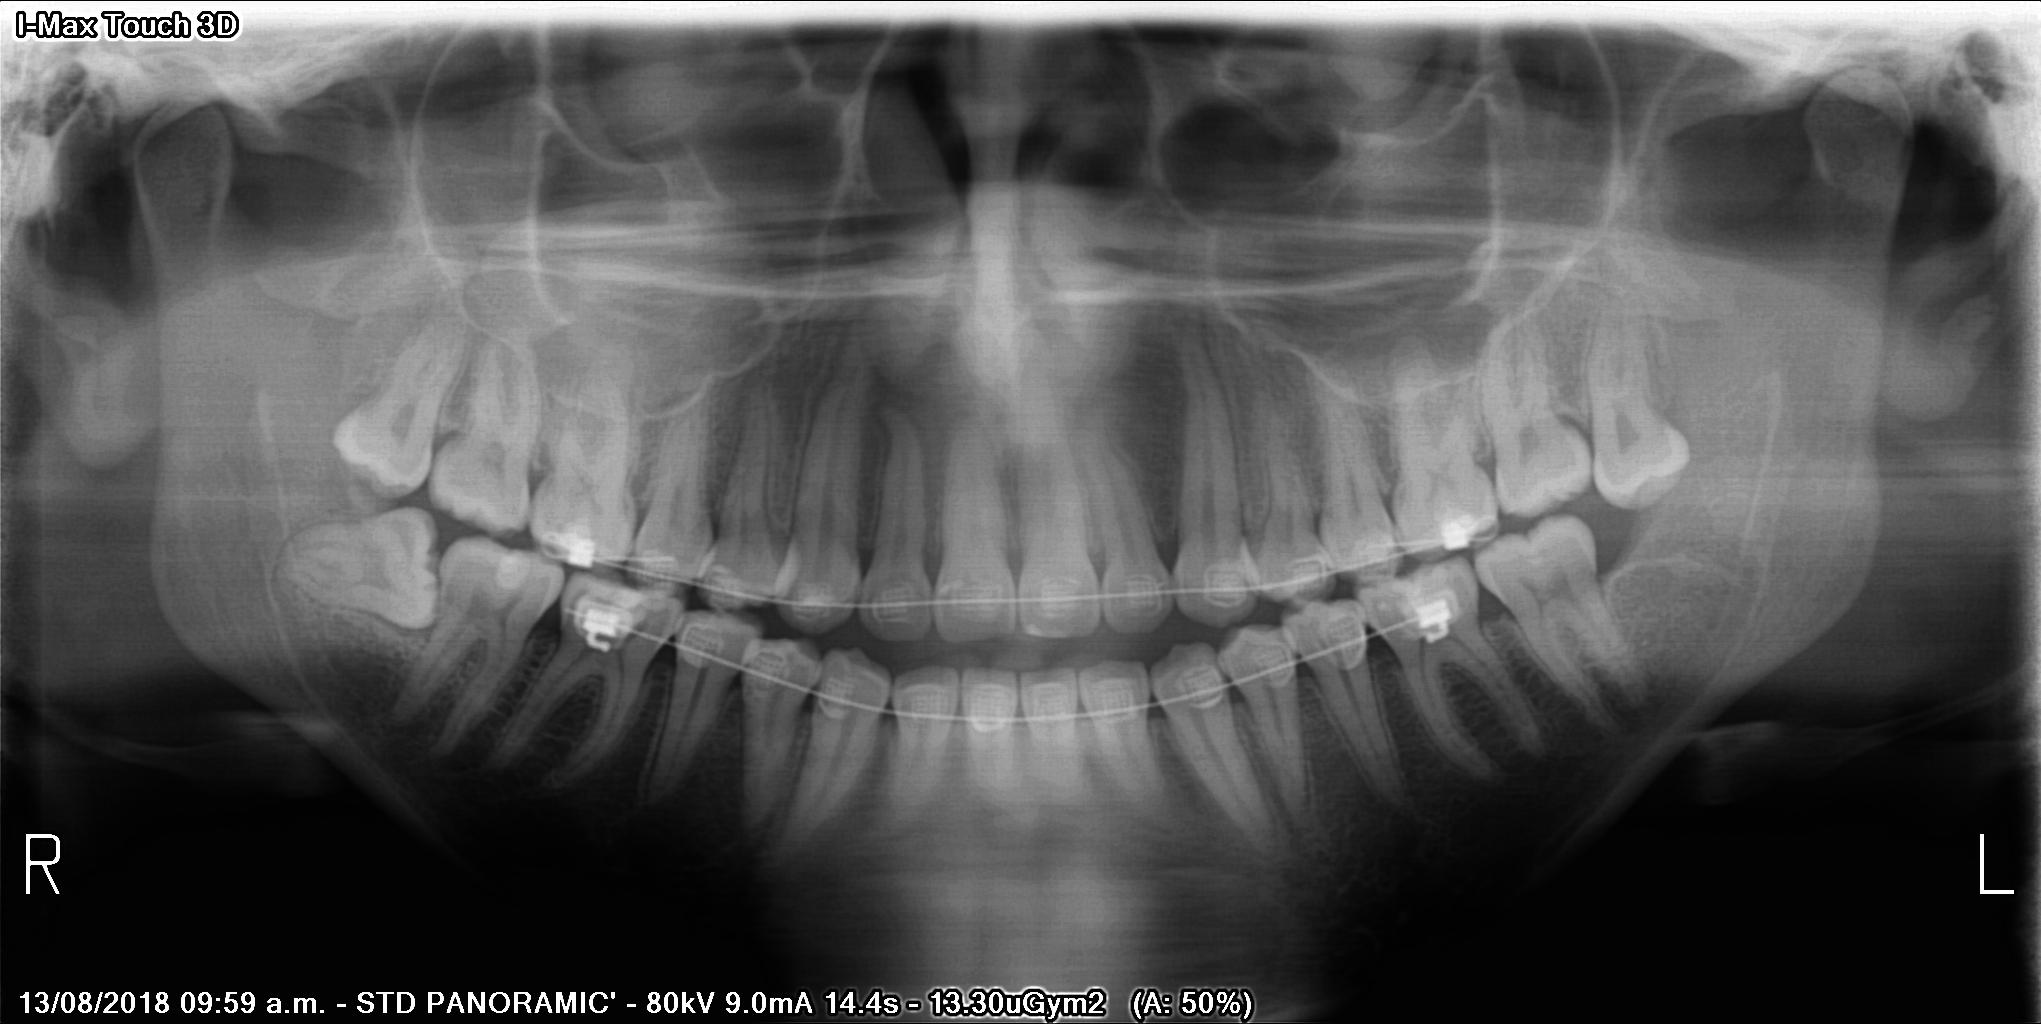Çürük: (494, 549, 538, 596)
